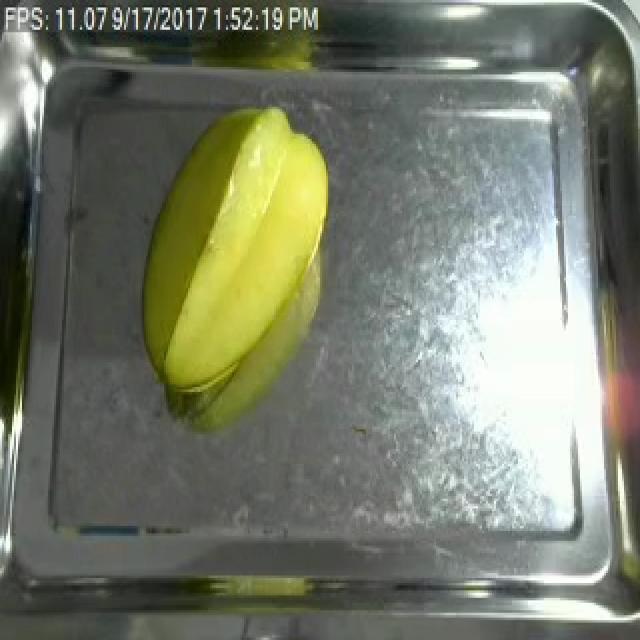fruit: (132, 97, 338, 412)
